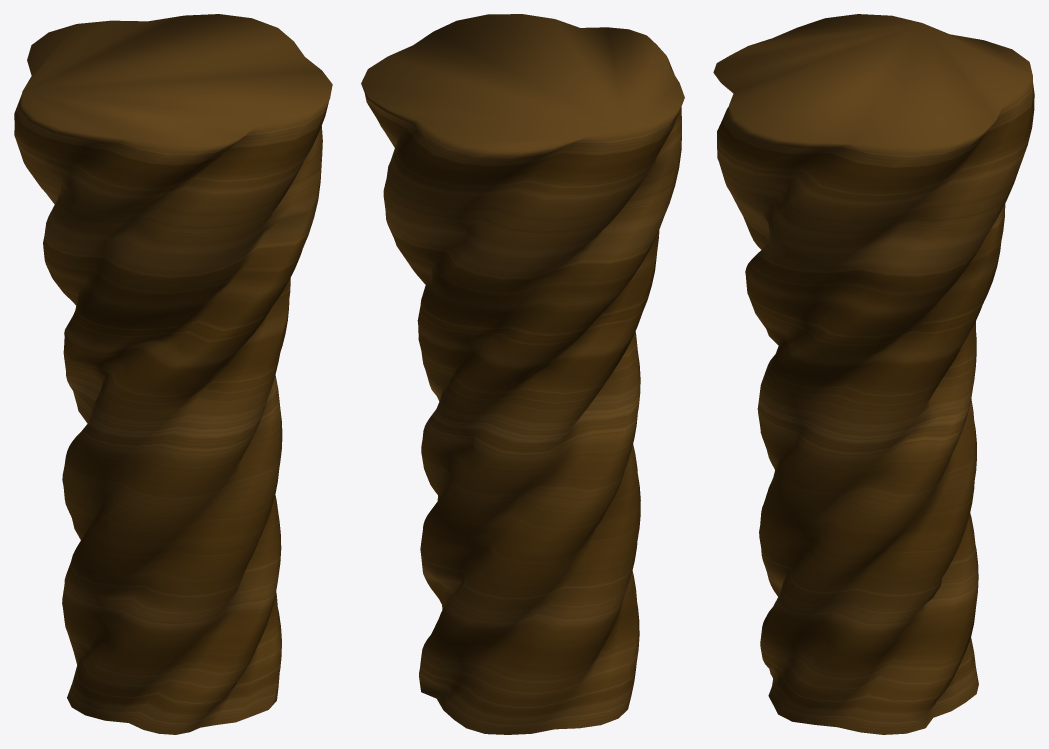
File: Stump.fbx
3 views of the same model, side by side, from view 1: azimuth 30°, elevation 25°; view 2: azimuth 150°, elevation 25°; view 3: azimuth 270°, elevation 25° (orthographic).
Visible parts, largest first — view 1: Circle.001; view 2: Circle.001; view 3: Circle.001.
Part boxes in pixels (x1,y1,x2,y2): Circle.001: (14,14,332,734); Circle.001: (361,14,684,734); Circle.001: (713,14,1034,734).
Bounding box in the file's own units: 344 × 712 × 341.
